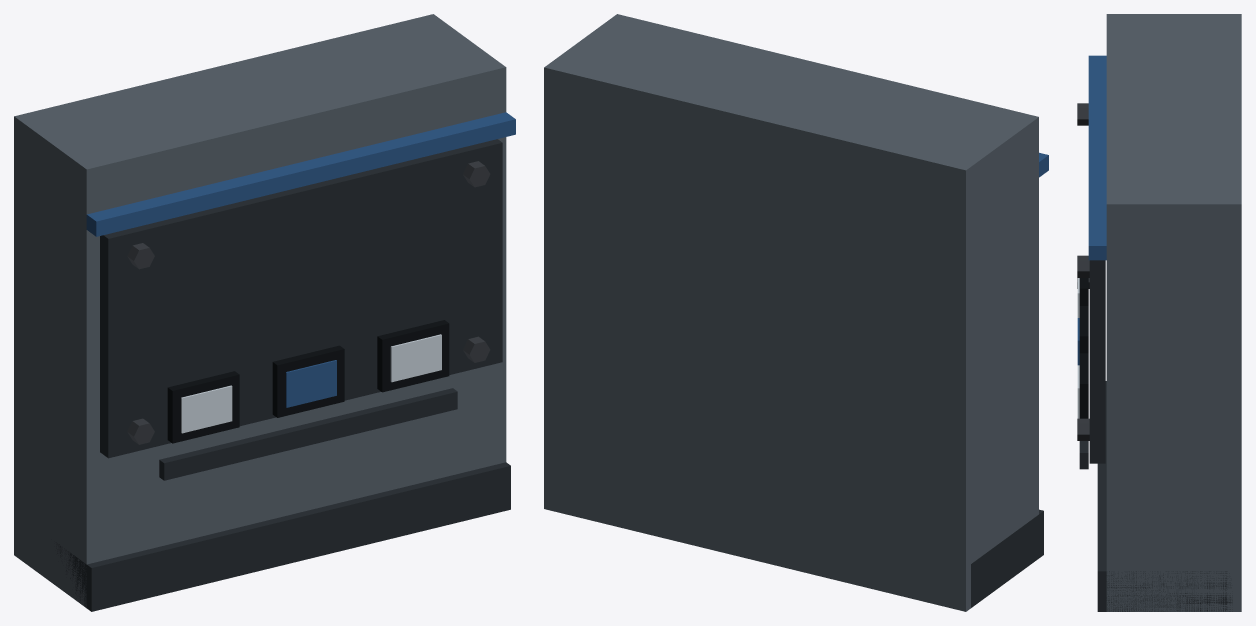
The model's file is mandalorian_wall_detail.glb.
3 renders of one model, left to right at view 1: azimuth 30°, elevation 25°; view 2: azimuth 150°, elevation 25°; view 3: azimuth 270°, elevation 25°, orthographic. The views are drawn at different scales.
Parts seen in each view (by area): view 1: mandalorian_wall_detail; view 2: mandalorian_wall_detail; view 3: mandalorian_wall_detail.
Part boxes in pixels (box(x1,y1,x2,y2)): mandalorian_wall_detail: box(14, 14, 515, 611); mandalorian_wall_detail: box(544, 14, 1048, 611); mandalorian_wall_detail: box(1077, 14, 1241, 611).
Size of the model in its own units: 1 by 1 by 0.365.
